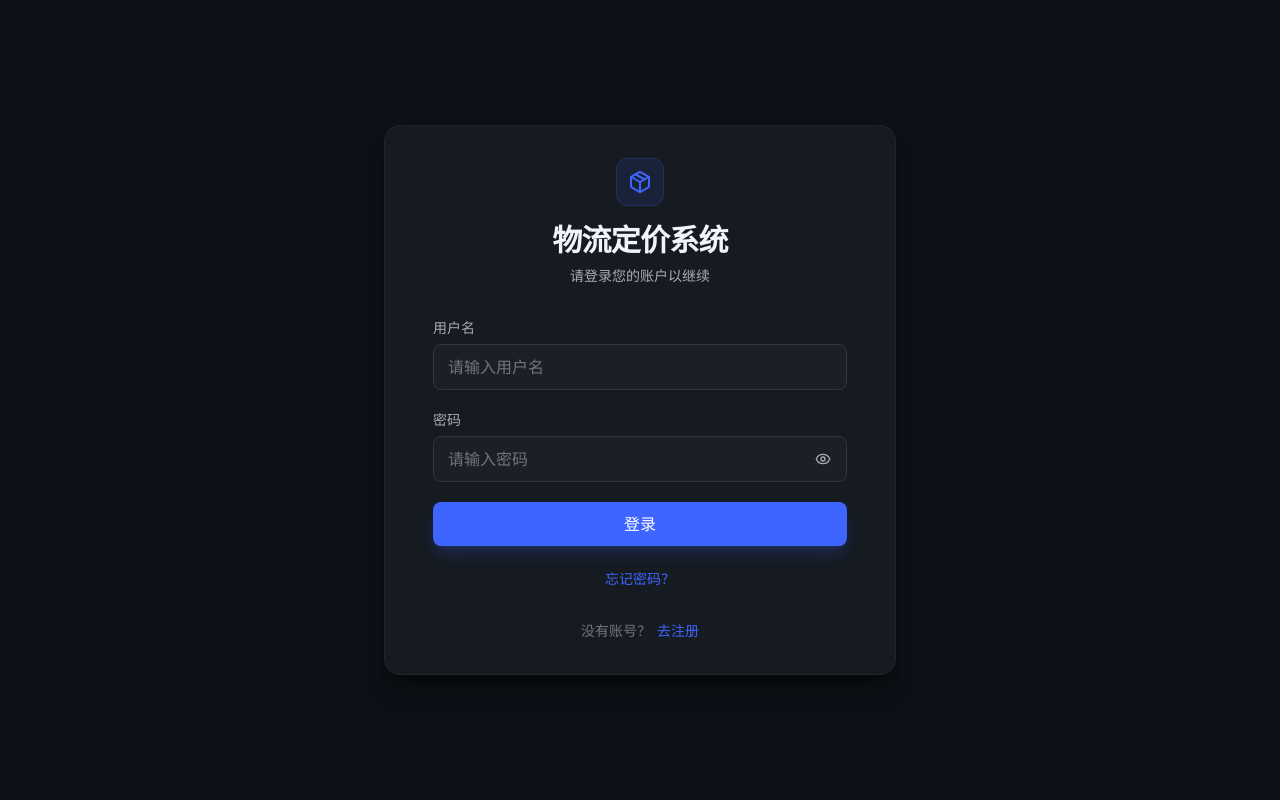
Scenario: LoginPage › shows error message on login failure (API error)
The width and height of the screenshot is (1280, 800).
Type "admin" into the field with placeholder "请输入用户名" at [640, 367], box [433,344,847,390]
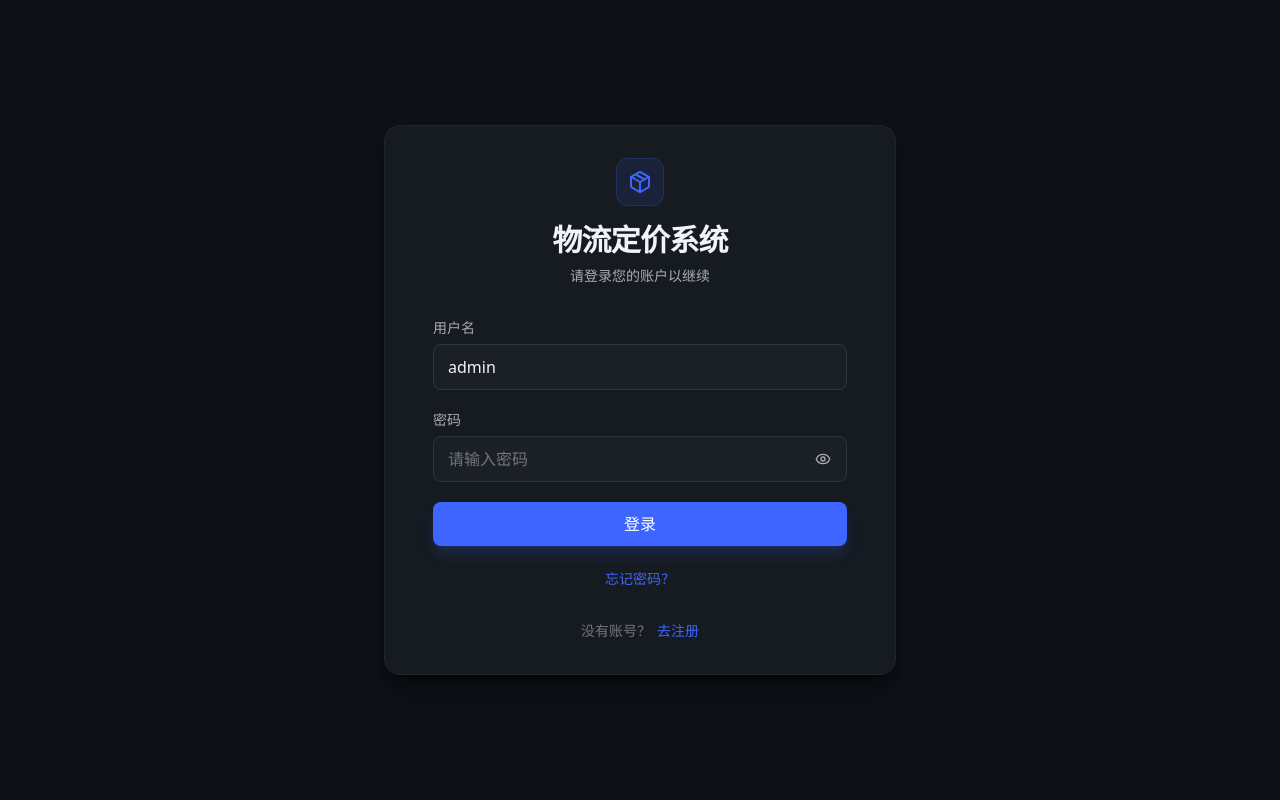
Type "1234567890123" into the password field with placeholder "请输入密码" at [640, 459], box [433,436,847,482]
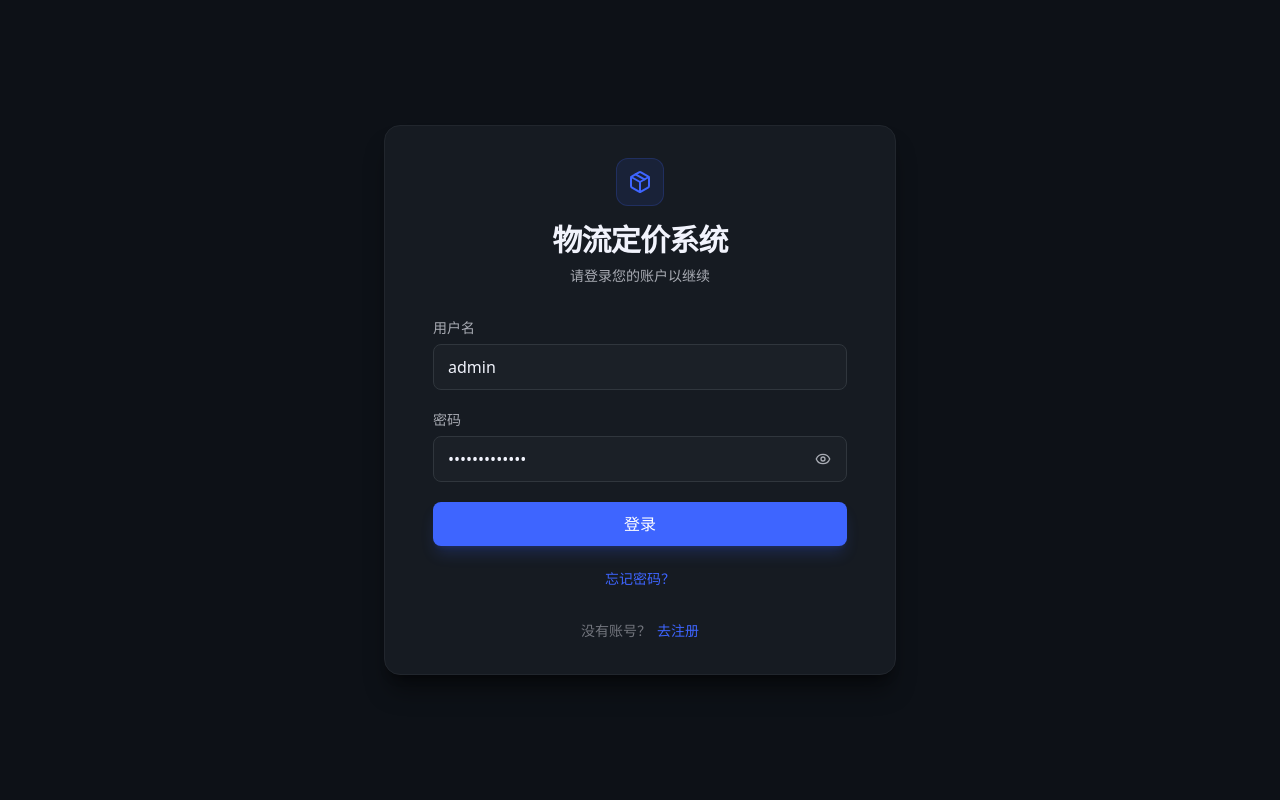
Click the button "登录" at [640, 524], box [433,502,847,546]
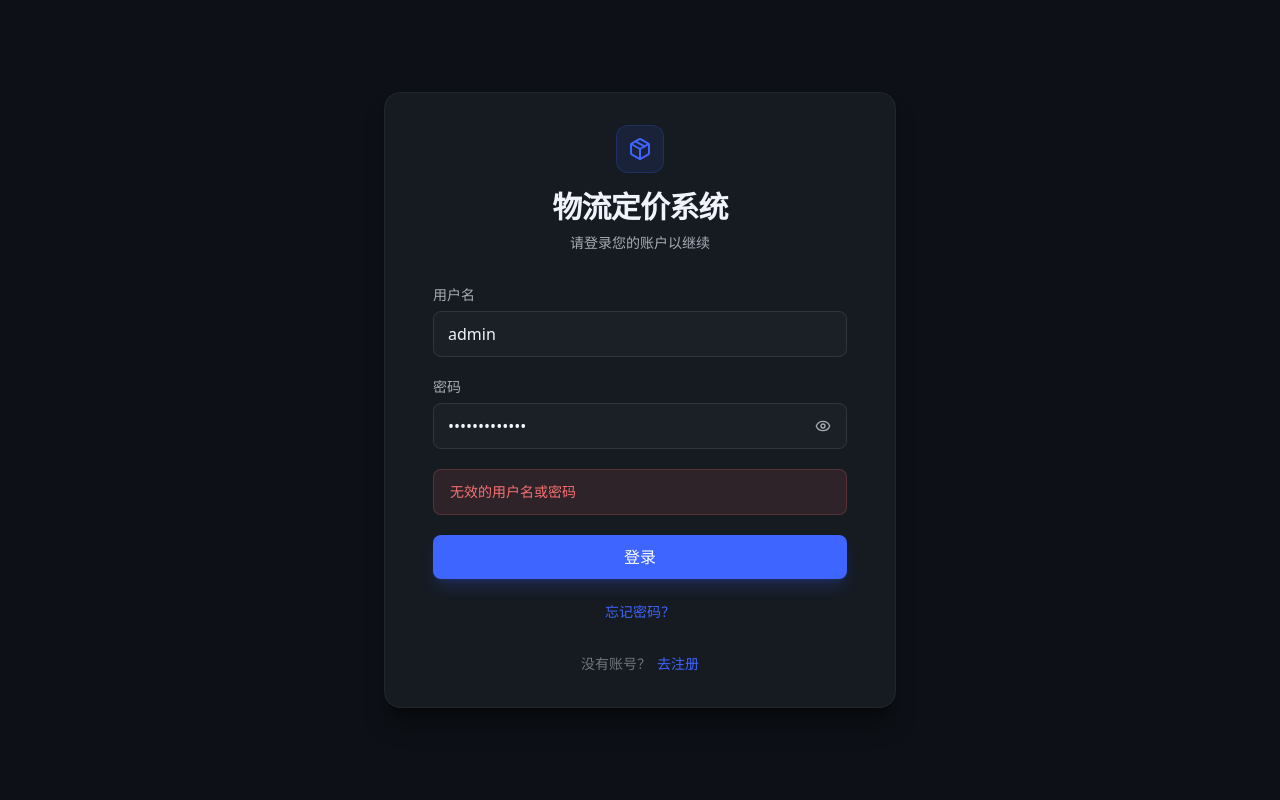
Expected: the text "无效的用户名或密码" is shown, [433,469,847,515]
